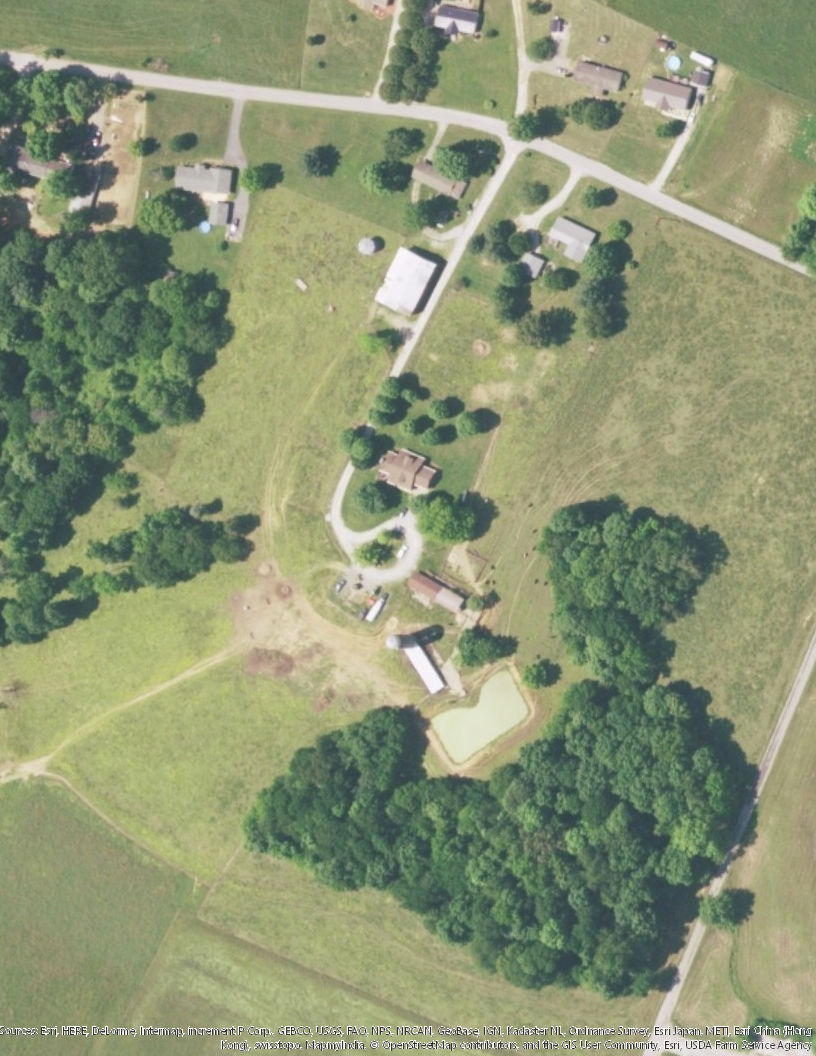cafo: (370, 244, 446, 319), (385, 630, 449, 696)
